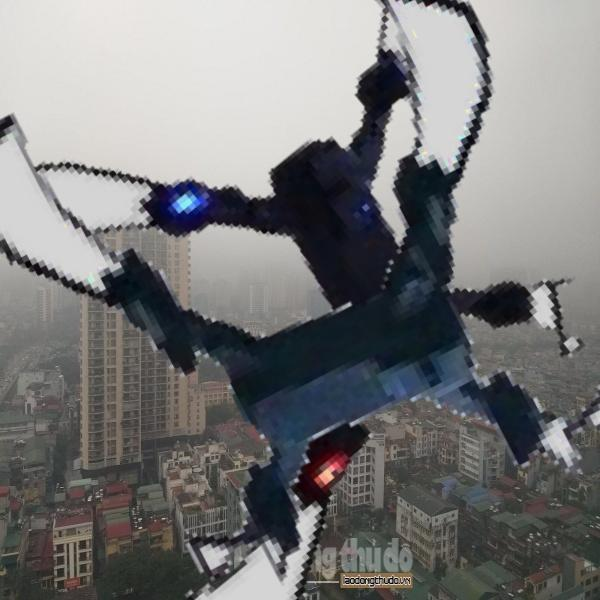drone: (9, 6, 592, 589)
